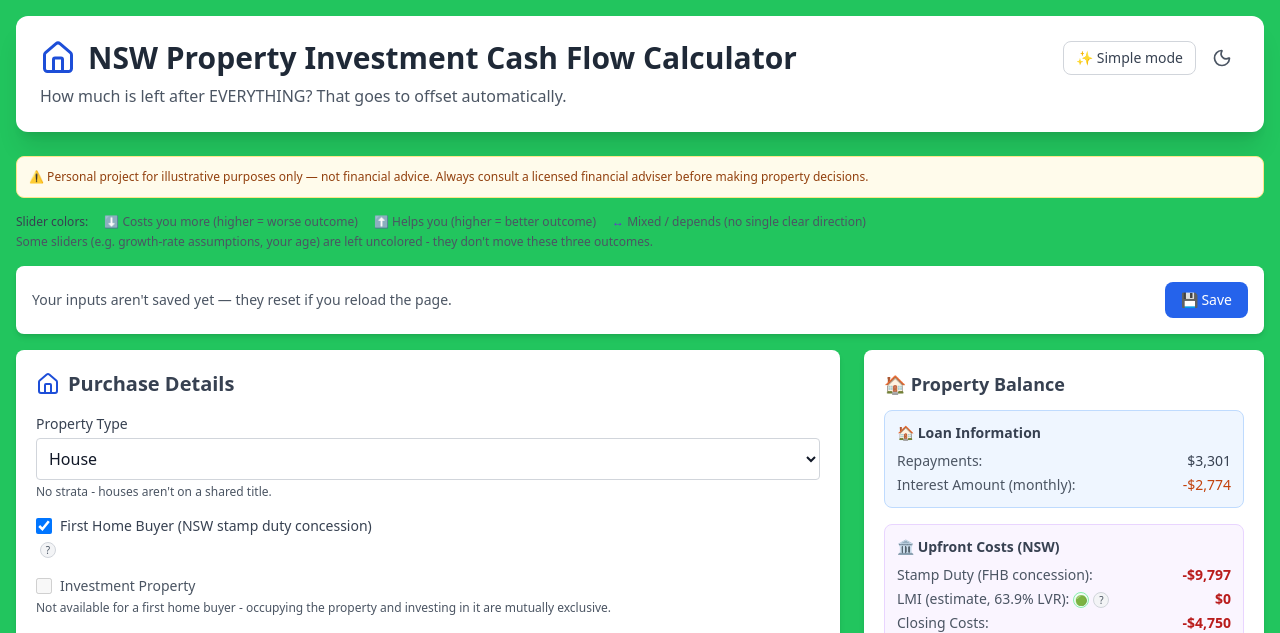
Property Type (house vs unit) › shows the "No strata" message for house, hides it for unit
Check: the text "No strata - houses aren't on a shared title." is shown, box 36,483 -> 272,500
Select "Unit / Apartment" in the dropdown showing "House". click: (428, 459)
box: 36,438 -> 820,480
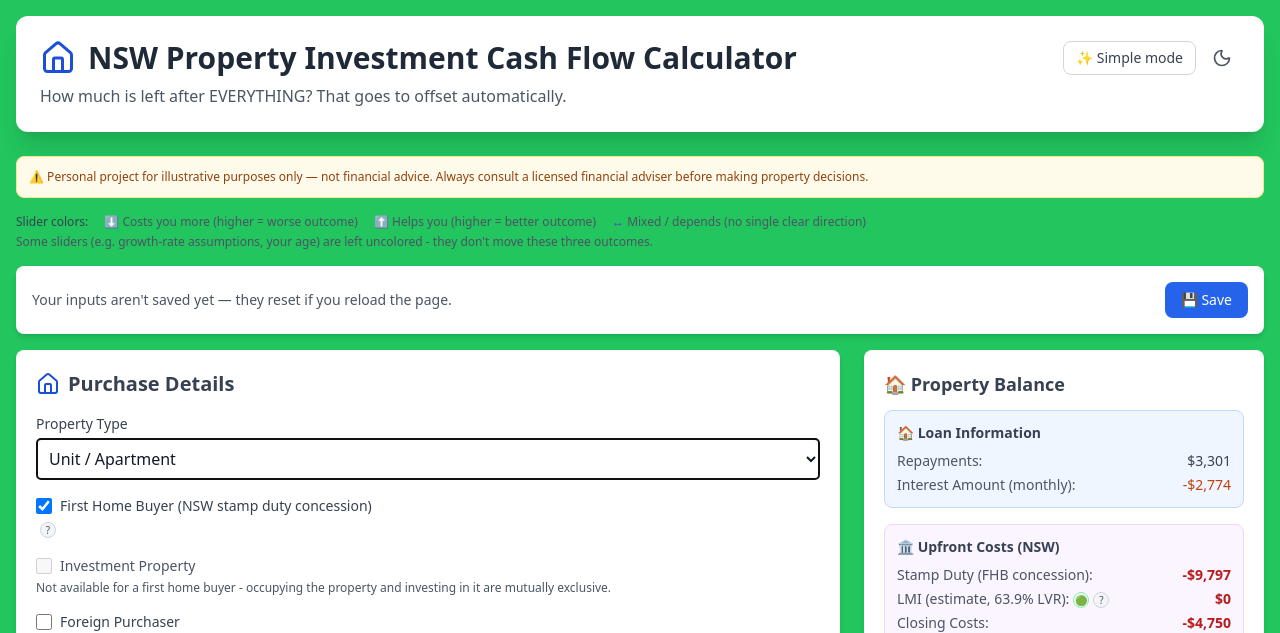
Check: the text "No strata - houses aren't on a shared title." is gone
